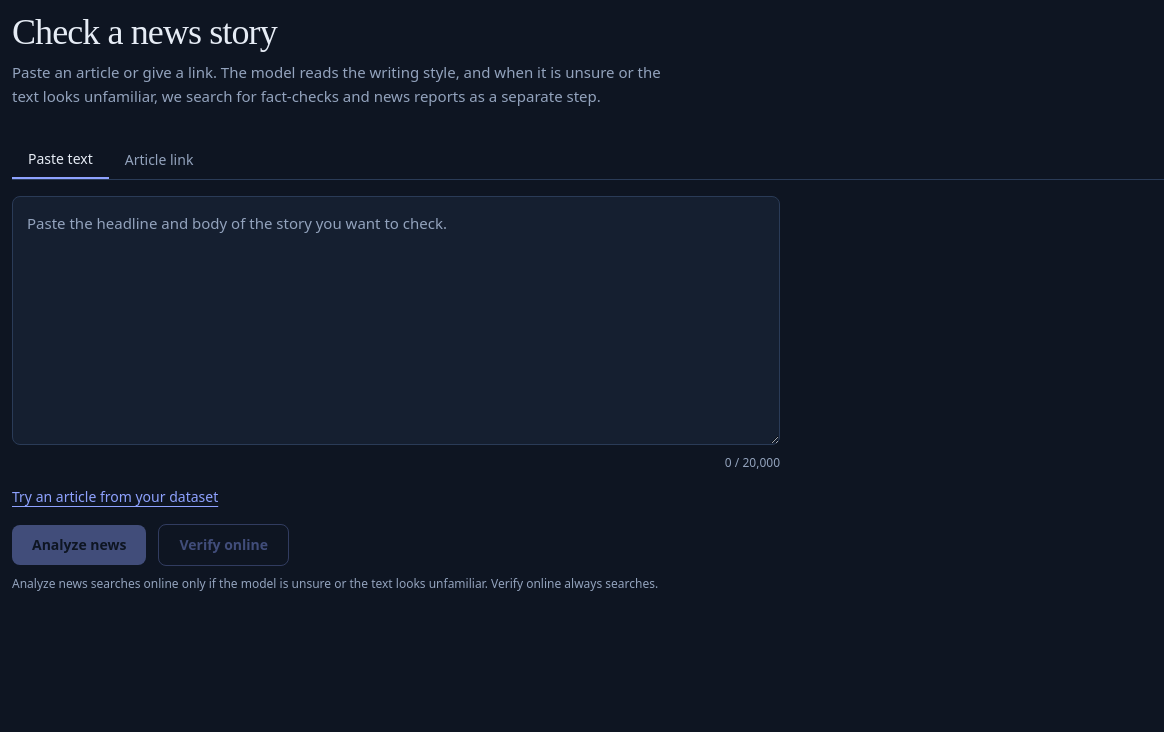
Scenario: Check page › disables both buttons until there is input
Expected: the button "Analyze news" is disabled, [12, 525, 146, 565]
Expected: the button "Verify online" is disabled, [158, 524, 289, 566]
Step 1. Type "Some news" into the text box named "Article text" → point(396, 320), box [12, 196, 780, 445]
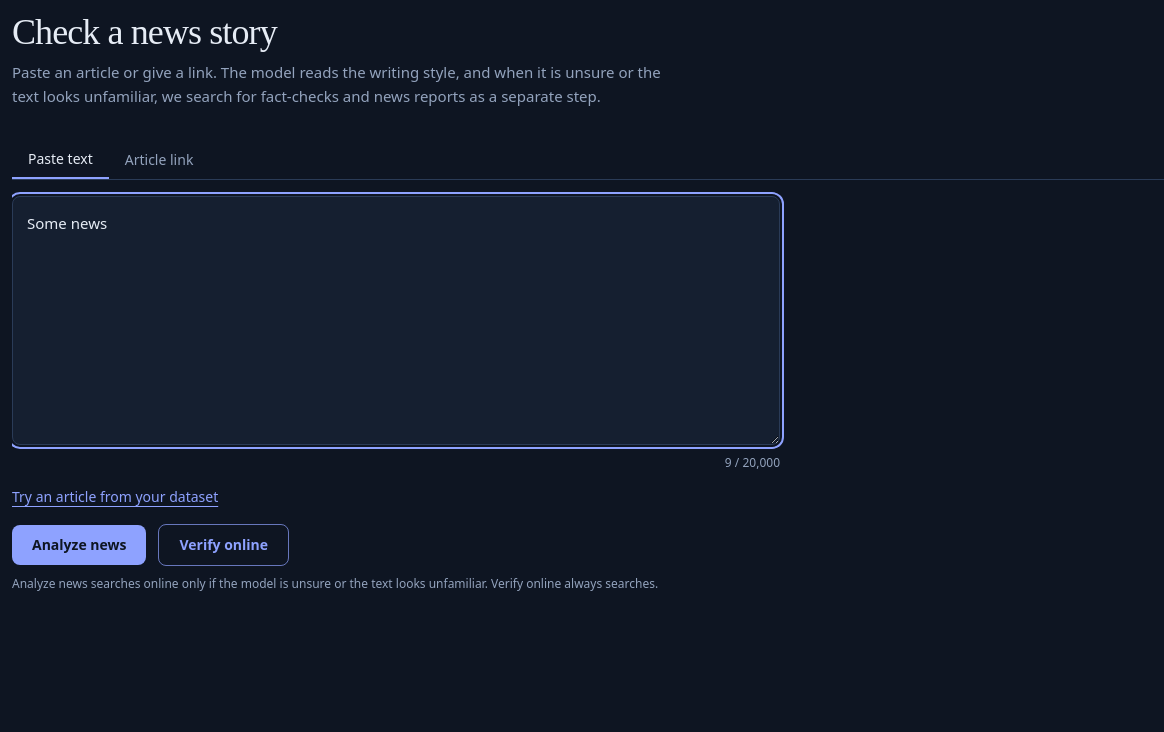
Expected: the button "Analyze news" is enabled, [12, 525, 146, 565]
